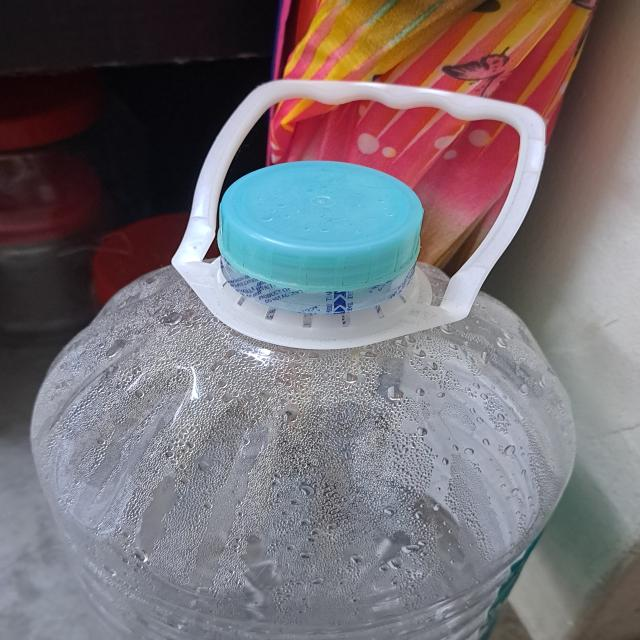plastic bottle: (31, 253, 582, 640)
plastic bottle cap: (214, 158, 421, 285)
